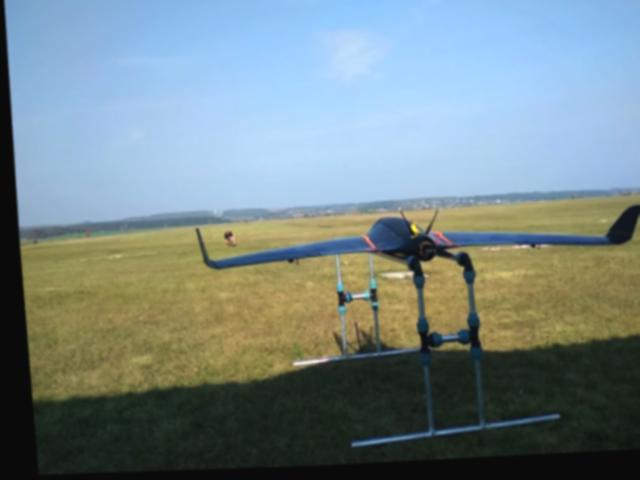plane: (189, 200, 640, 286)
